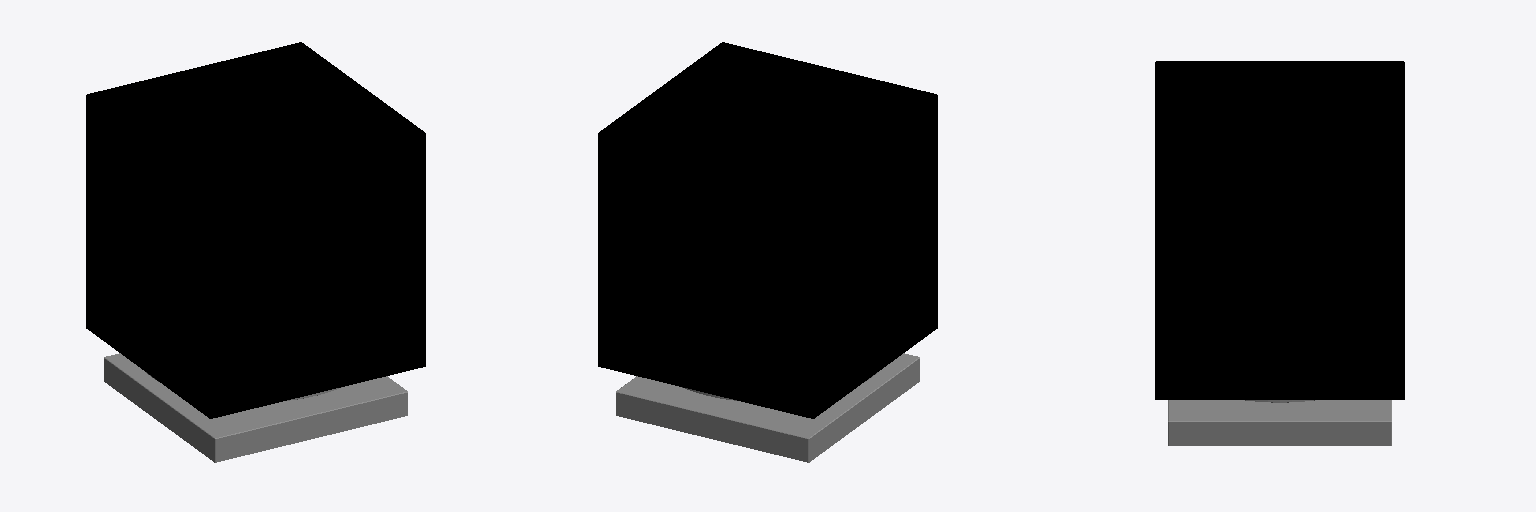
The model's file is COM_LG-1.obj.
3 renders of one model, left to right at view 1: azimuth 30°, elevation 25°; view 2: azimuth 150°, elevation 25°; view 3: azimuth 270°, elevation 25°, orthographic.
Visible parts, largest first — view 1: COM_LG_1; view 2: COM_LG_1; view 3: COM_LG_1.
Part boxes in pixels (x1,y1,x2,y2): COM_LG_1: (86,42,425,462); COM_LG_1: (598,42,937,462); COM_LG_1: (1155,61,1404,445).
Bounding box in the file's own units: 252 × 318 × 252.